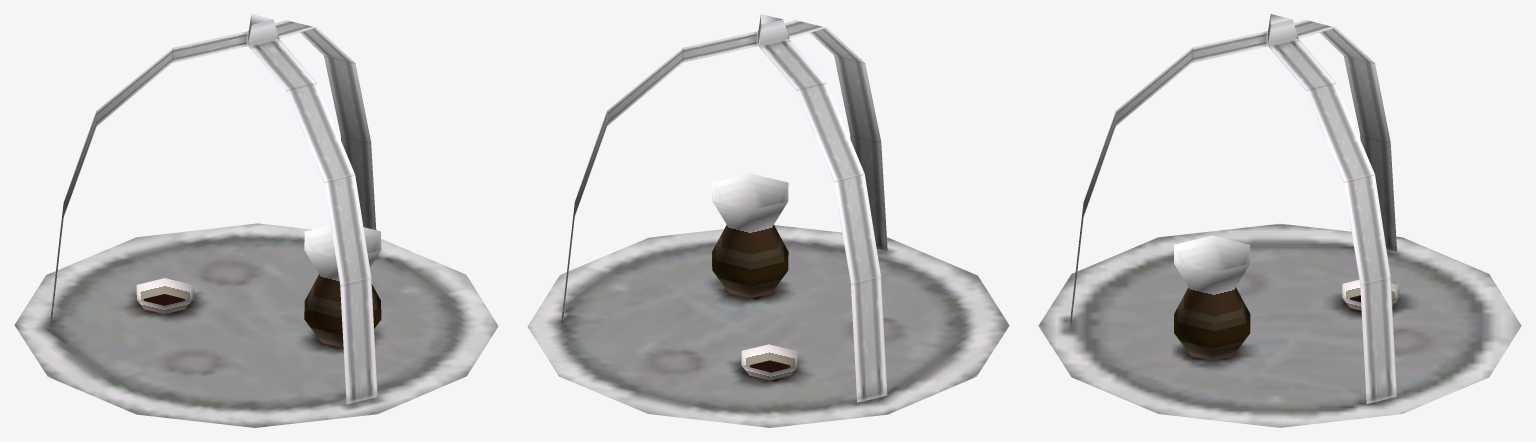
The model's file is Tea_Tray.glb.
The picture shows the model from 3 angles, left to right: view 1: azimuth 30°, elevation 25°; view 2: azimuth 150°, elevation 25°; view 3: azimuth 270°, elevation 25°; orthographic projection.
Parts seen in each view (by area): view 1: TEA_TRAY; view 2: TEA_TRAY; view 3: TEA_TRAY.
Boxes of the visible parts, x1=… form: TEA_TRAY: x1=14, y1=14, x2=498, y2=427; TEA_TRAY: x1=527, y1=14, x2=1009, y2=427; TEA_TRAY: x1=1038, y1=14, x2=1521, y2=427.
Bounding box in the file's own units: 0.524 × 0.367 × 0.524.
2 materials, 2 textured.
